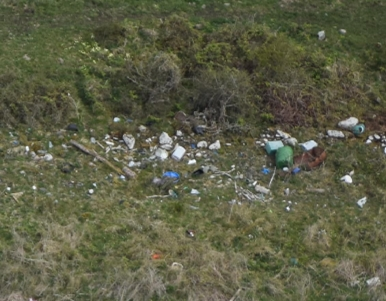scattered_barrel: (145, 224, 202, 277)
straight_bar: (63, 131, 121, 179)
together_barrel: (154, 118, 374, 212)
